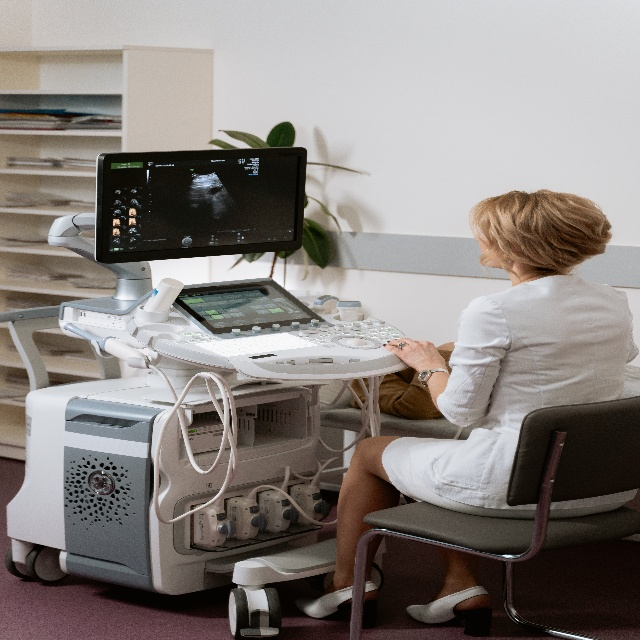Sin_guantes: (382, 329, 447, 378)
